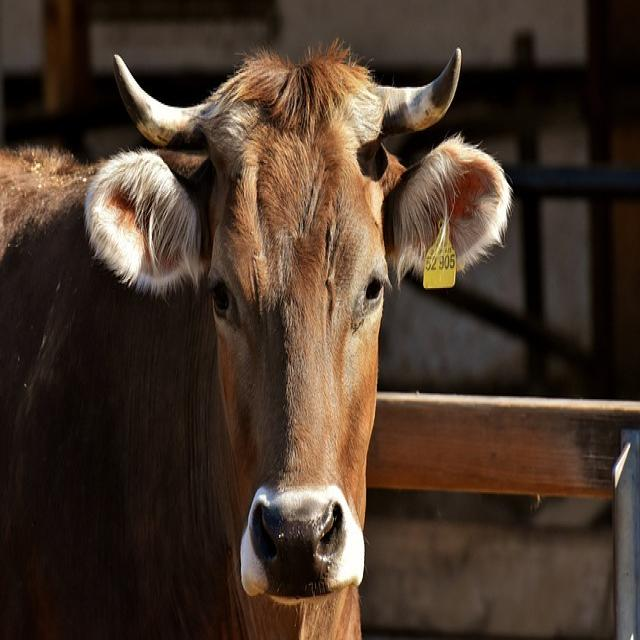Herbivorous: (0, 38, 513, 640)
